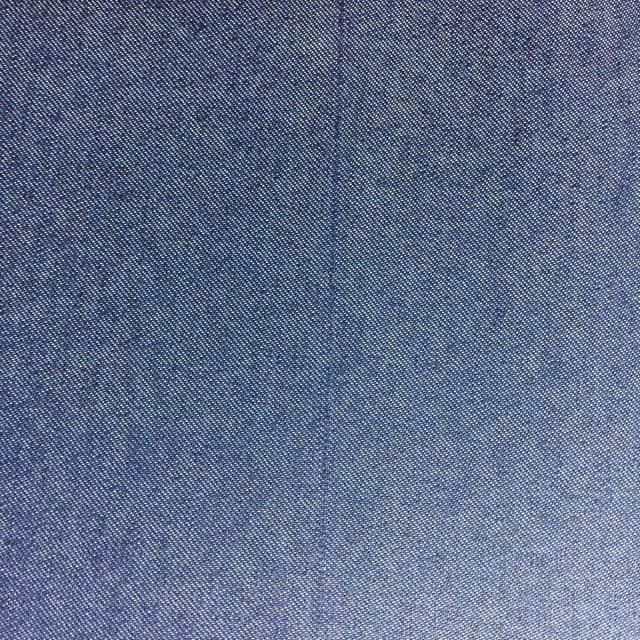Line: (313, 2, 350, 637)
